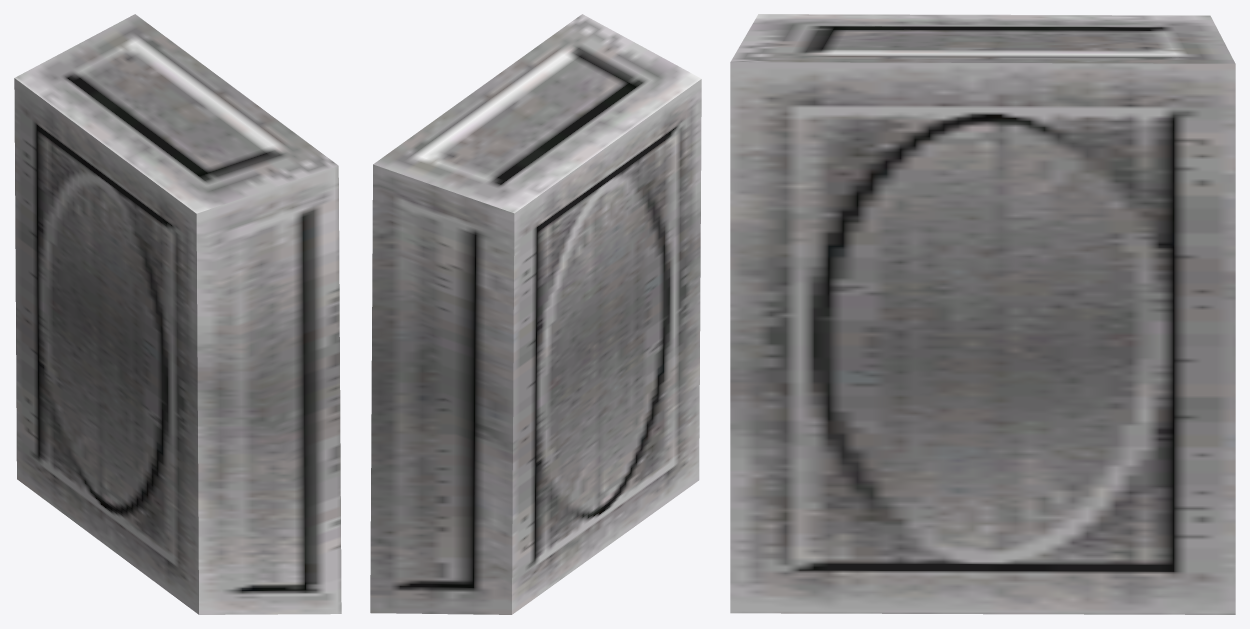
Rendered from earring_s13_m_l0.fbx.
The picture shows the model from 3 angles, left to right: view 1: azimuth 30°, elevation 25°; view 2: azimuth 150°, elevation 25°; view 3: azimuth 270°, elevation 25°; orthographic projection. The views are drawn at different scales.
Visible parts, largest first — view 1: mesh_node; view 2: mesh_node; view 3: mesh_node.
Part boxes in pixels (x1,y1,x2,y2): mesh_node: (14, 14, 341, 614); mesh_node: (370, 14, 701, 614); mesh_node: (730, 14, 1235, 614).
Bounding box in the file's own units: 0.00872 × 0.0275 × 0.0229.
